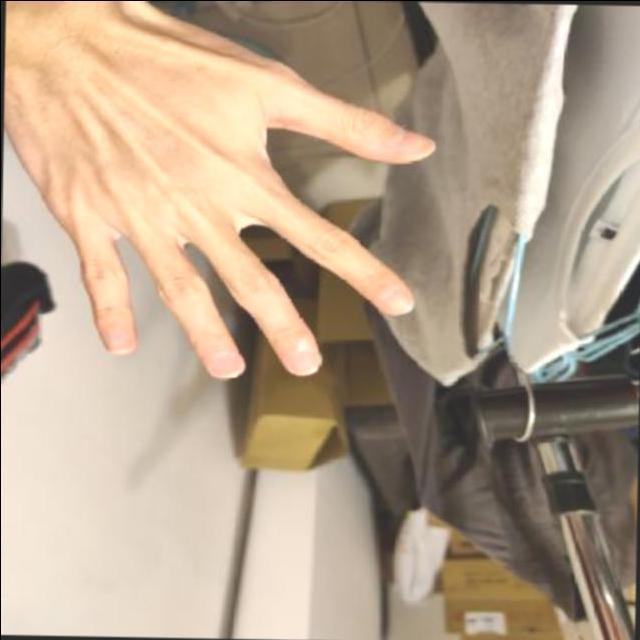hand: (0, 0, 446, 400)
